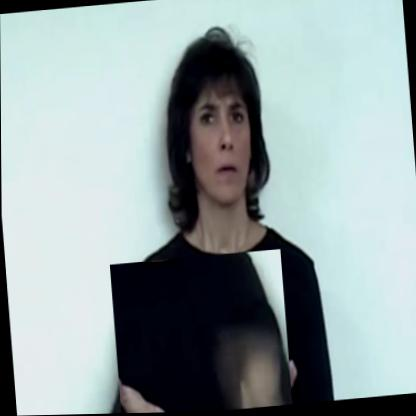Expensive: (109, 250, 291, 414)
